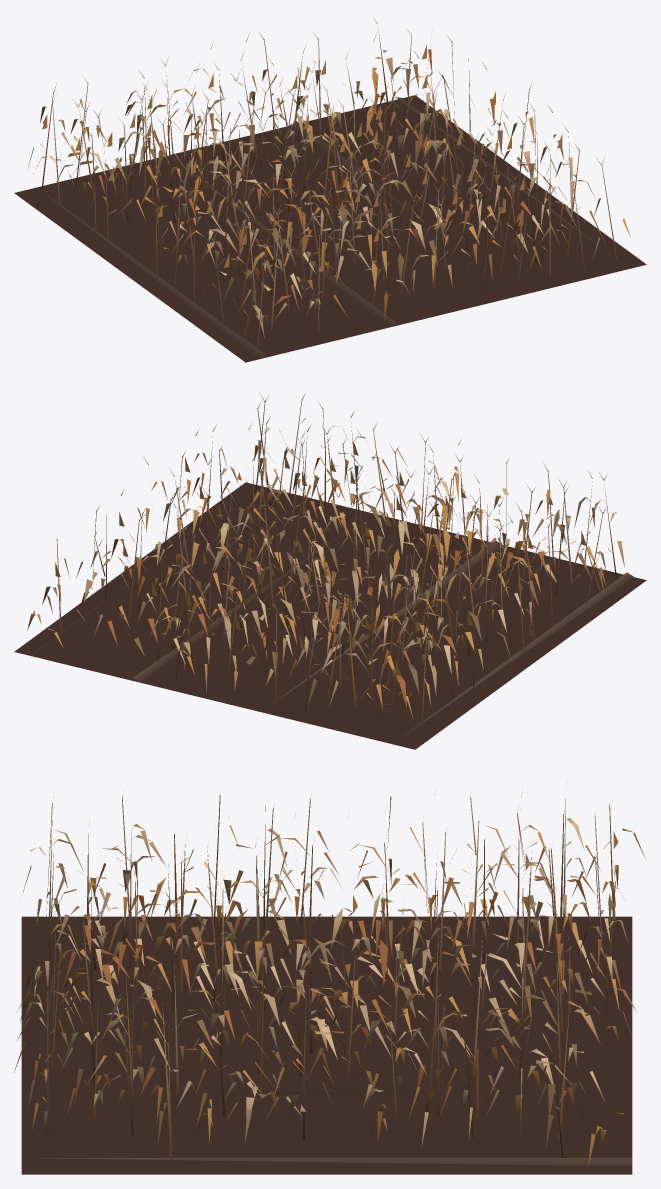
Rendered from veg.corn-block.lod1.glb.
3 renders of one model, top to bottom at view 1: azimuth 30°, elevation 25°; view 2: azimuth 150°, elevation 25°; view 3: azimuth 270°, elevation 25°, orthographic. The views are drawn at different scales.
Visible parts, largest first — view 1: body; view 2: body; view 3: body.
Boxes of the visible parts, left/top/right/bottom form: body: left=14, top=17, right=646, bottom=362; body: left=14, top=394, right=646, bottom=749; body: left=14, top=795, right=645, bottom=1174.
Bounding box in the file's own units: 10.27 × 2.79 × 10.37.
